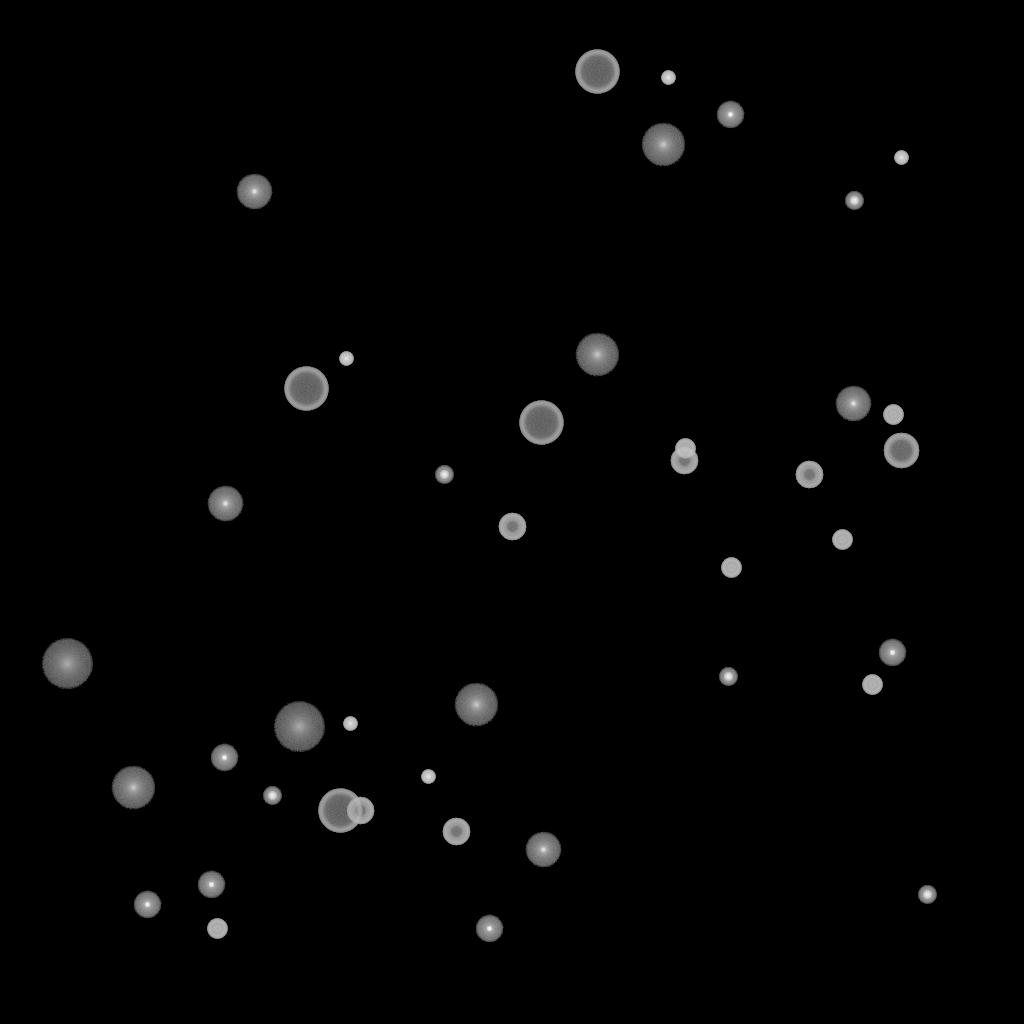depth:-10: (475, 915, 503, 943), (878, 639, 906, 667), (197, 871, 225, 899), (716, 101, 744, 129), (133, 891, 161, 919), (210, 744, 238, 772)
depth:-20: (845, 192, 863, 210), (263, 787, 281, 805), (719, 668, 737, 686), (435, 466, 453, 484), (918, 886, 936, 904)
depth:-30: (661, 71, 675, 85), (339, 352, 353, 366), (421, 770, 435, 784), (894, 151, 908, 165), (343, 717, 357, 731)
depth:-40: (675, 439, 695, 459), (862, 675, 882, 695), (883, 405, 903, 425), (207, 919, 227, 939), (721, 558, 741, 578), (832, 530, 852, 550)
depth:-50: (442, 818, 470, 846), (346, 797, 374, 825), (795, 461, 823, 489), (670, 447, 698, 475), (498, 513, 526, 541)
depth:-60: (883, 433, 919, 469)
depth:-70: (519, 401, 563, 445), (575, 50, 619, 94), (318, 789, 362, 833), (284, 367, 328, 411)
depth:0: (236, 174, 272, 210), (207, 486, 243, 522), (835, 386, 871, 422), (525, 832, 561, 868)
depth:10: (641, 123, 685, 167), (111, 766, 155, 810), (454, 683, 498, 727), (575, 333, 619, 377)
depth:20: (41, 639, 93, 689), (273, 702, 325, 752)
